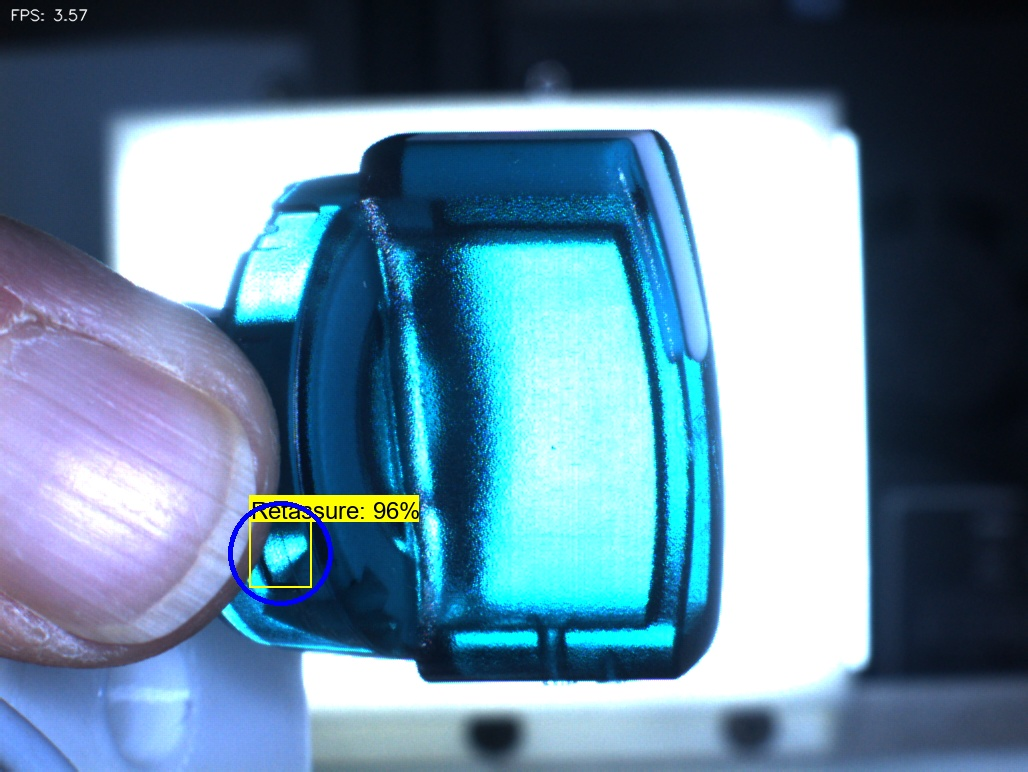Bulle: (506, 579, 597, 679)
